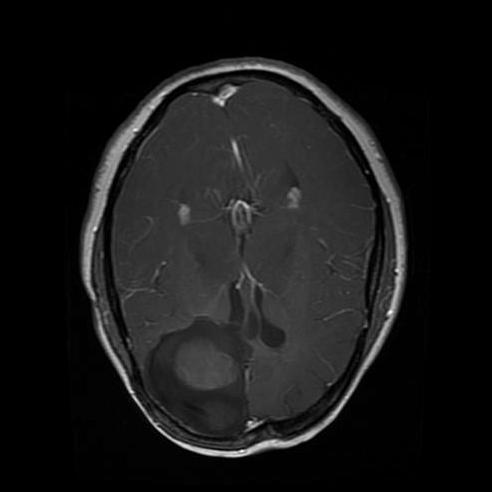Tumour-Glioma: (148, 319, 249, 429)
